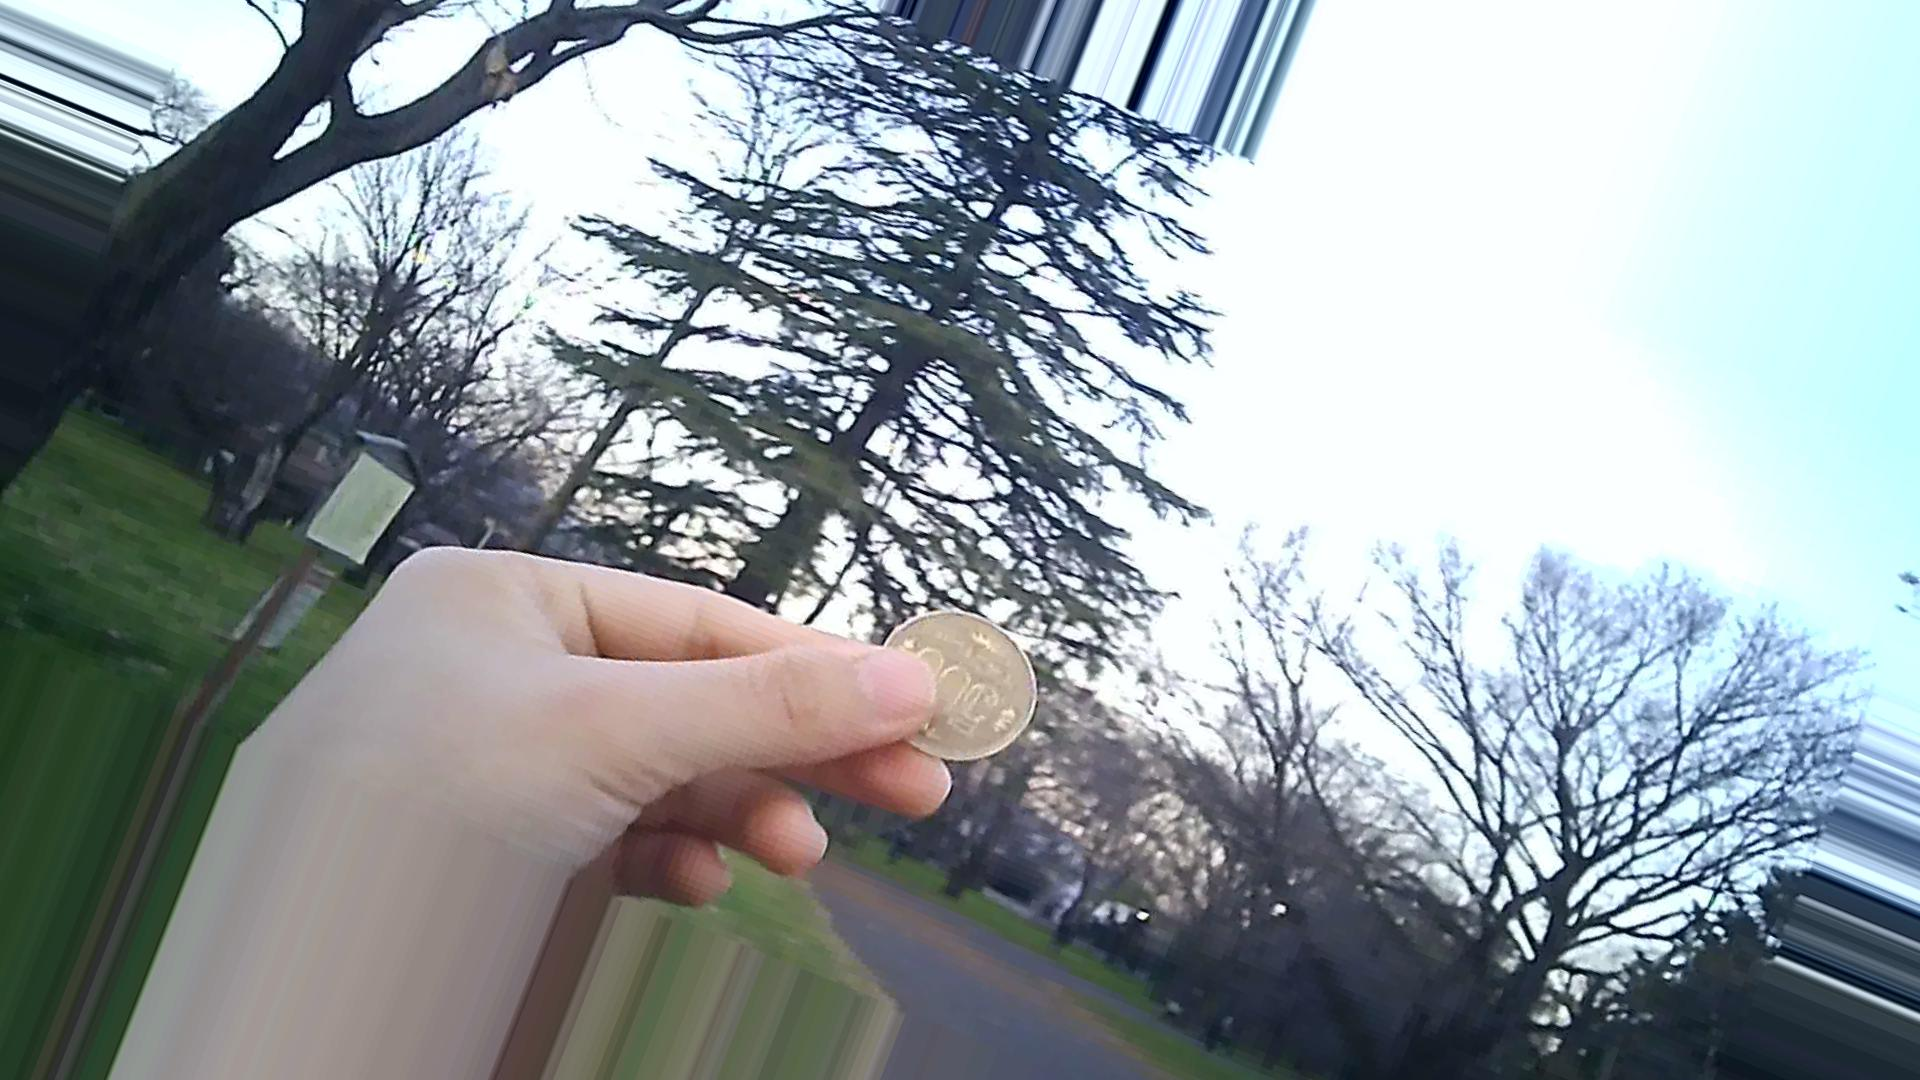500 Yen: (869, 611, 1040, 770)
